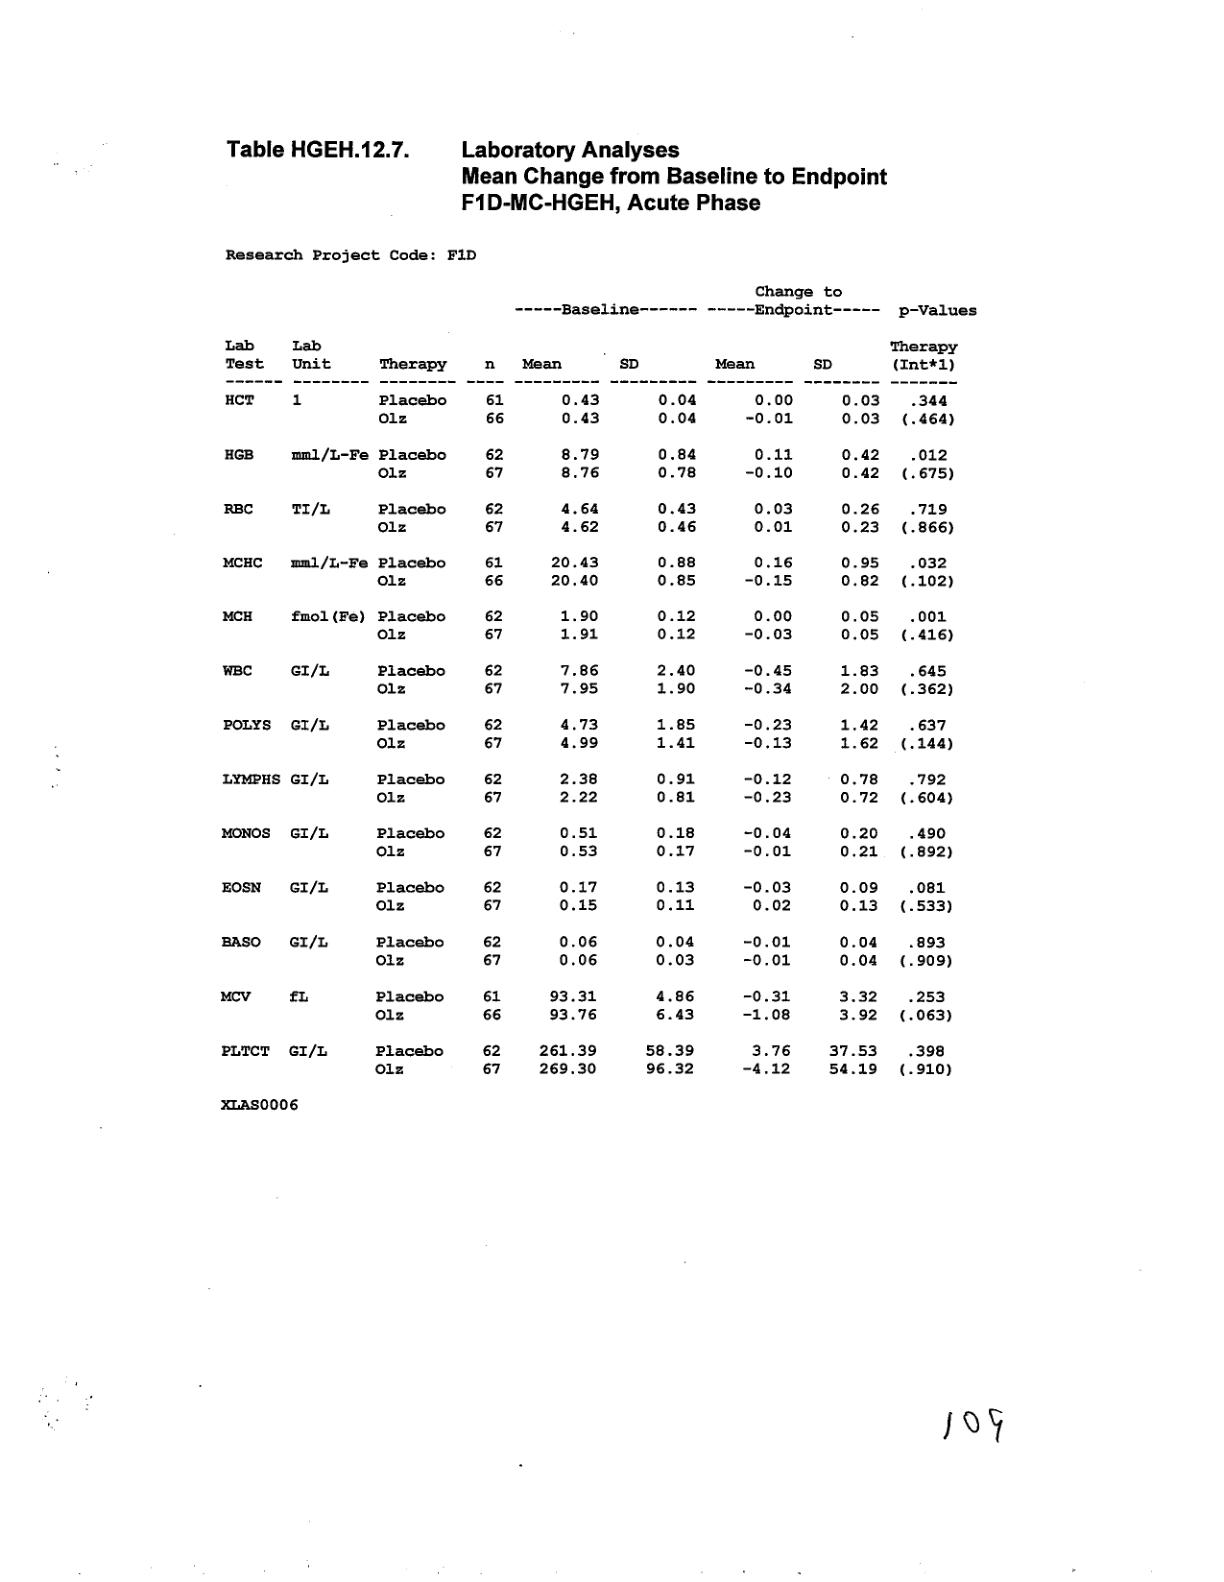nolines: (211, 281, 980, 1115)
